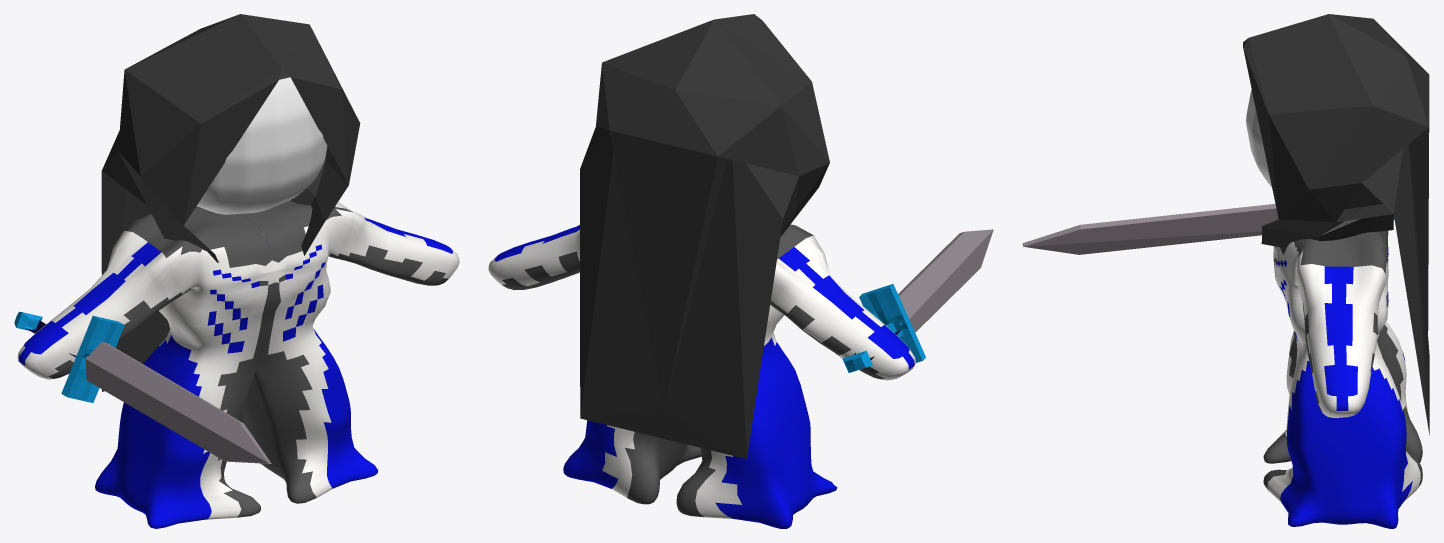
The model's file is Cara 1.fbx.
3 views of the same model, side by side, from view 1: azimuth 30°, elevation 25°; view 2: azimuth 150°, elevation 25°; view 3: azimuth 270°, elevation 25° (orthographic). The views are drawn at different scales.
Parts seen in each view (by area): view 1: 立方体, ICO球, 立方体.001, Cube; view 2: ICO球, 立方体, 立方体.001; view 3: ICO球, 立方体, 立方体.001, Cube.
Boxes of the visible parts, left/top/right/bottom form: 立方体: left=17, top=200, right=459, bottom=528; ICO球: left=101, top=14, right=360, bottom=391; 立方体.001: left=14, top=311, right=271, bottom=463; Cube: left=197, top=77, right=327, bottom=214; ICO球: left=580, top=14, right=829, bottom=458; 立方体: left=488, top=224, right=915, bottom=528; 立方体.001: left=842, top=229, right=993, bottom=372; ICO球: left=1243, top=14, right=1429, bottom=435; 立方体: left=1263, top=219, right=1422, bottom=528; 立方体.001: left=1022, top=204, right=1394, bottom=254; Cube: left=1246, top=89, right=1271, bottom=186.
Size of the model in its own units: 248 by 263 by 209.
